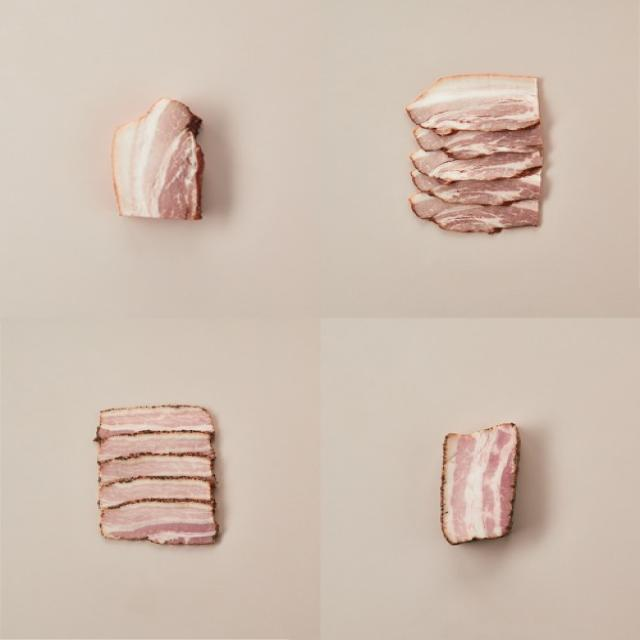bacon: (415, 77, 546, 231), (96, 410, 224, 552), (107, 105, 206, 222), (440, 426, 521, 546)
